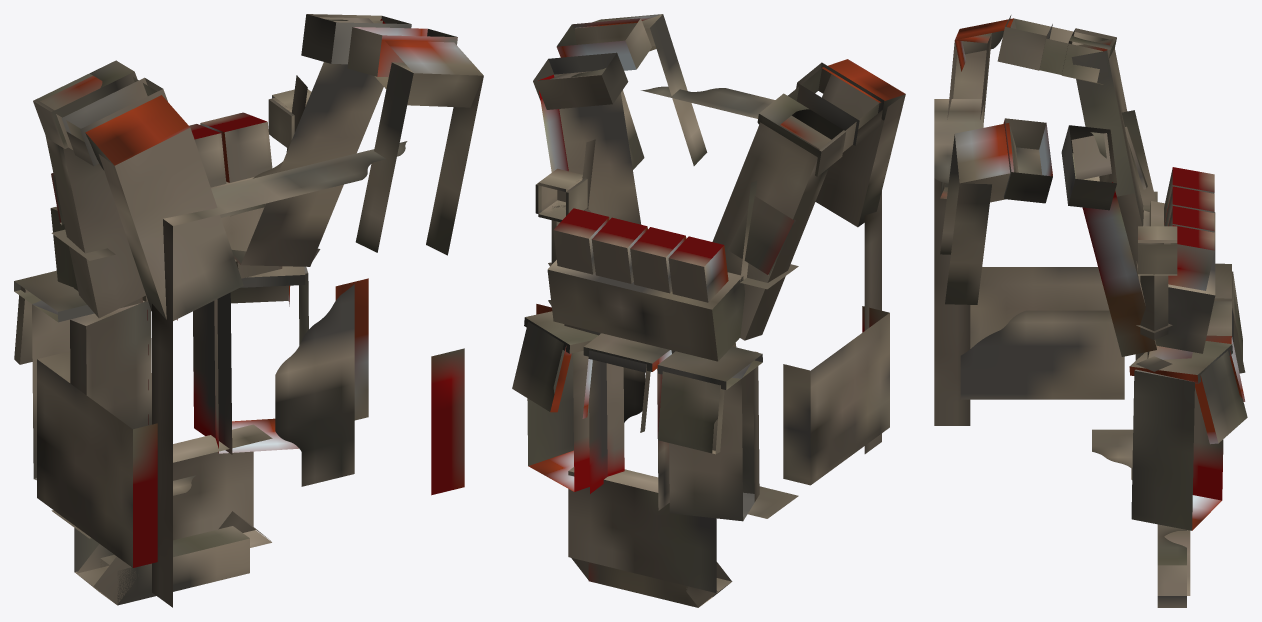
File: saper.obj
3 renders of one model, left to right at view 1: azimuth 30°, elevation 25°; view 2: azimuth 150°, elevation 25°; view 3: azimuth 270°, elevation 25°, orthographic. The views are drawn at different scales.
Visible parts, largest first — view 1: saper; view 2: saper; view 3: saper.
Part boxes in pixels (x1=…): saper: x1=14, y1=14, x2=483, y2=607; saper: x1=512, y1=14, x2=905, y2=607; saper: x1=934, y1=15, x2=1247, y2=607.
Bounding box in the file's own units: 0.7121 × 1.07 × 0.5966.
